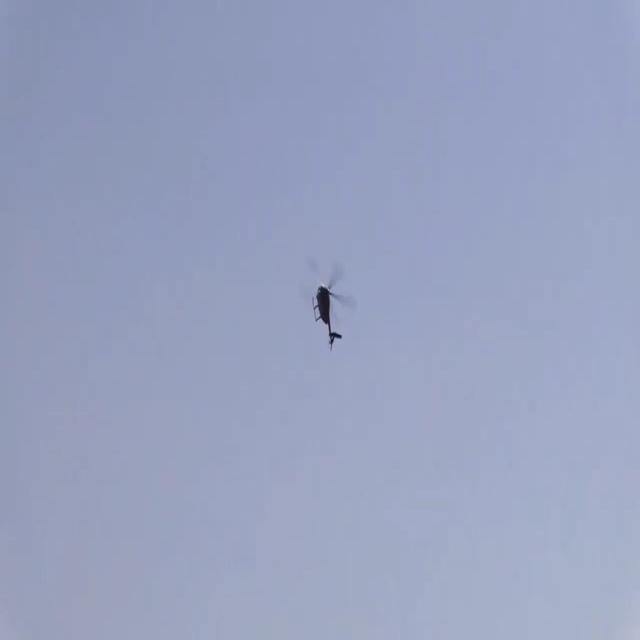Helicopter: (279, 253, 366, 371)
